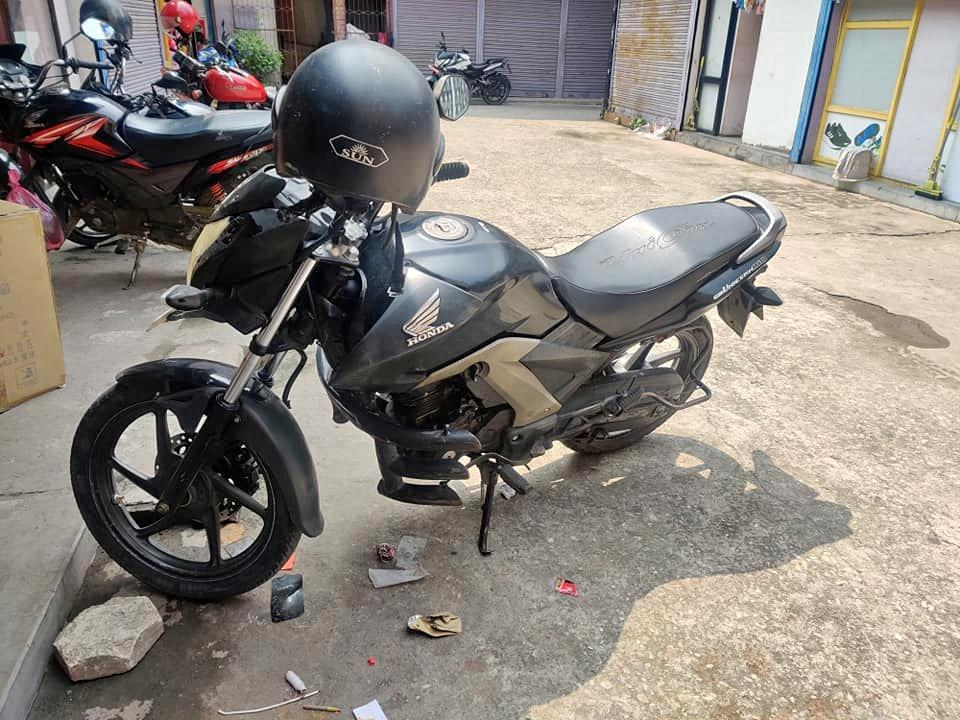bike: (62, 127, 801, 607)
